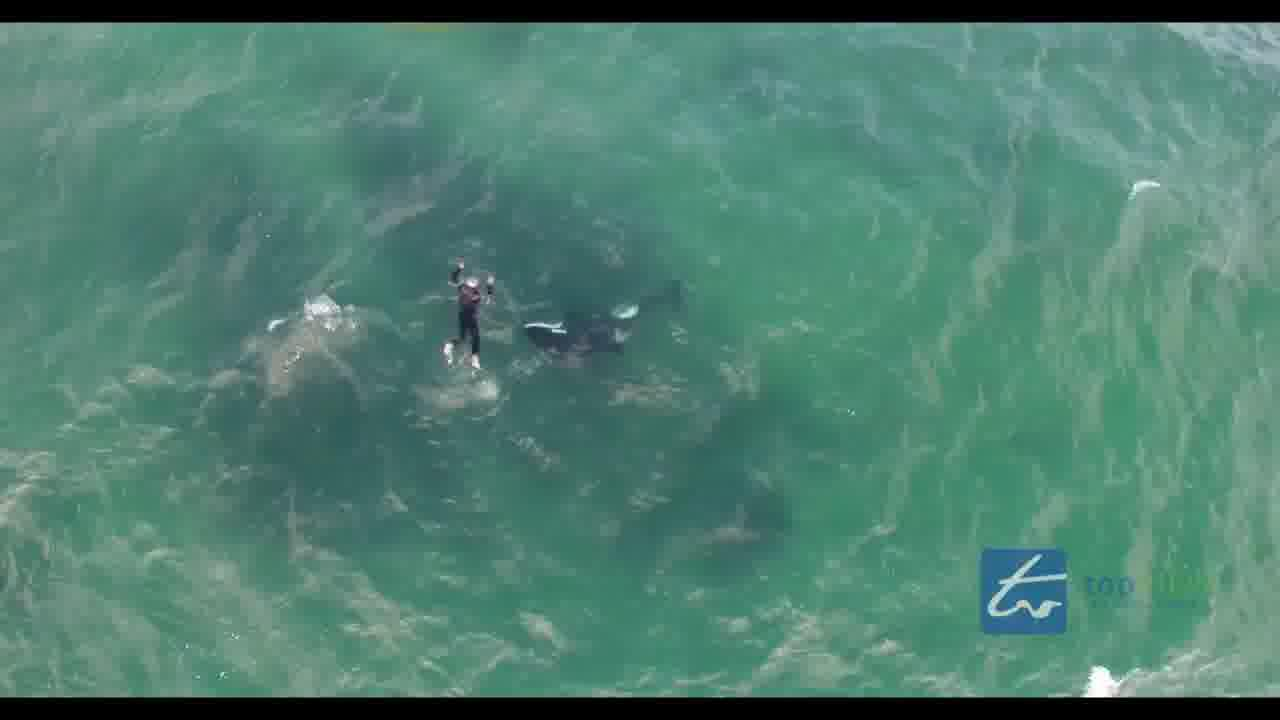human: (447, 263, 494, 374)
